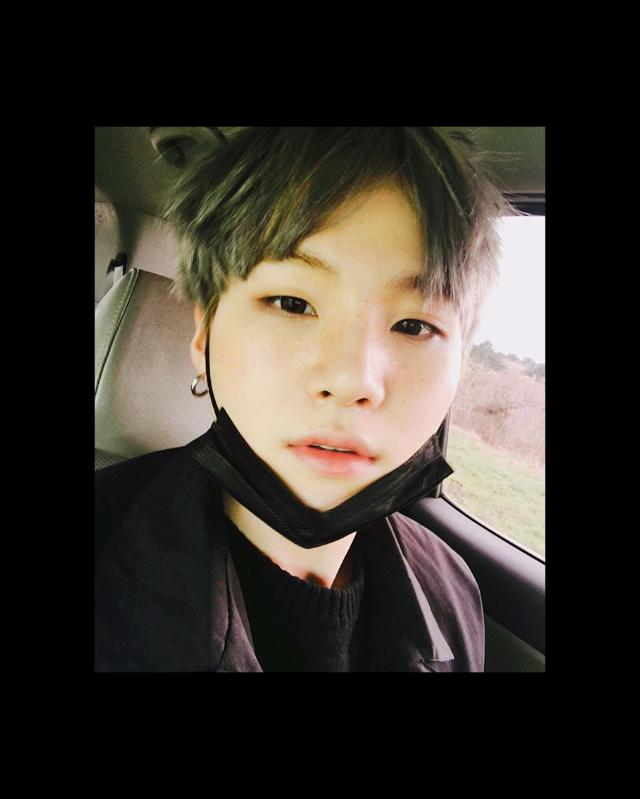mask_weared_incorrect: (221, 260, 448, 527)
